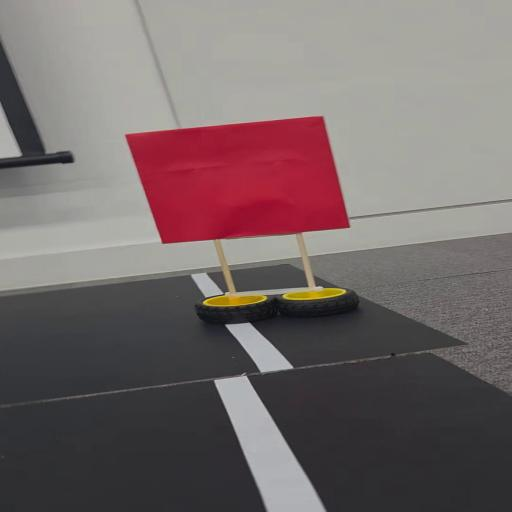Sign_A: (126, 118, 371, 328)
